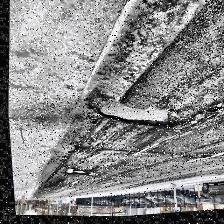pothole: (92, 94, 180, 138)
